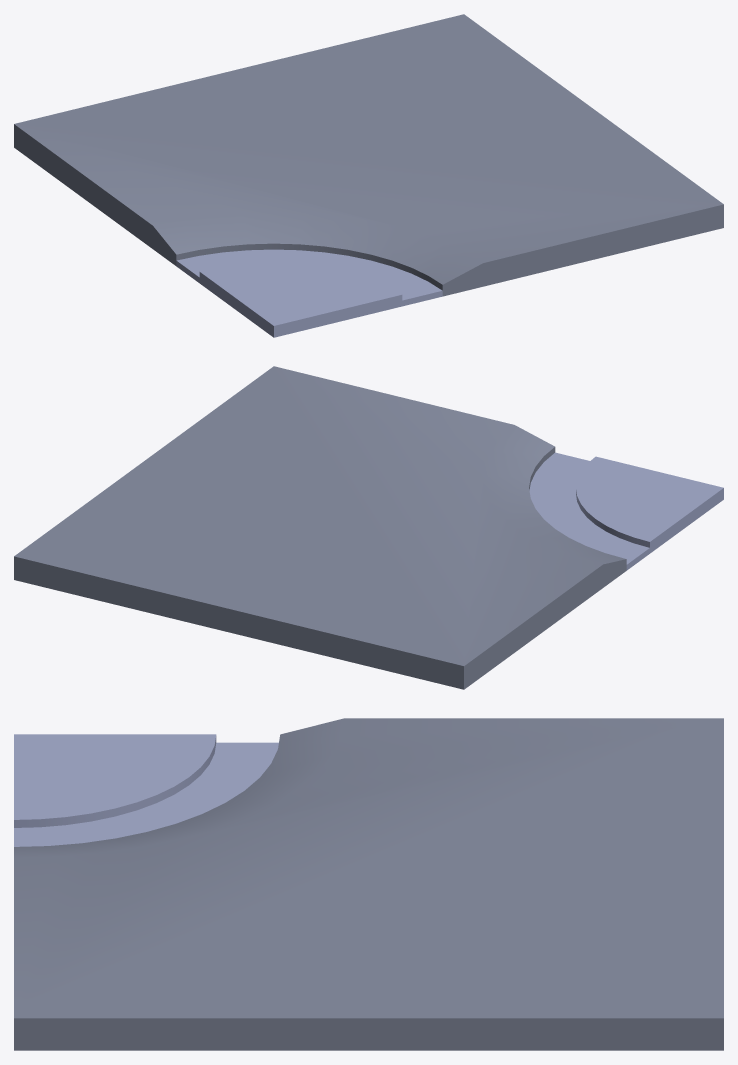
File: road-corner-inner.glb
The picture shows the model from 3 angles, top to bottom: view 1: azimuth 30°, elevation 25°; view 2: azimuth 150°, elevation 25°; view 3: azimuth 270°, elevation 25°; orthographic projection. The views are drawn at different scales.
Visible parts, largest first — view 1: road-corner-inner; view 2: road-corner-inner; view 3: road-corner-inner.
Part boxes in pixels (x1,y1,x2,y2): road-corner-inner: (14, 14, 723, 337); road-corner-inner: (14, 366, 723, 689); road-corner-inner: (14, 718, 723, 1050).
Bounding box in the file's own units: 1 × 0.0501 × 1.
1 material, 1 textured.
